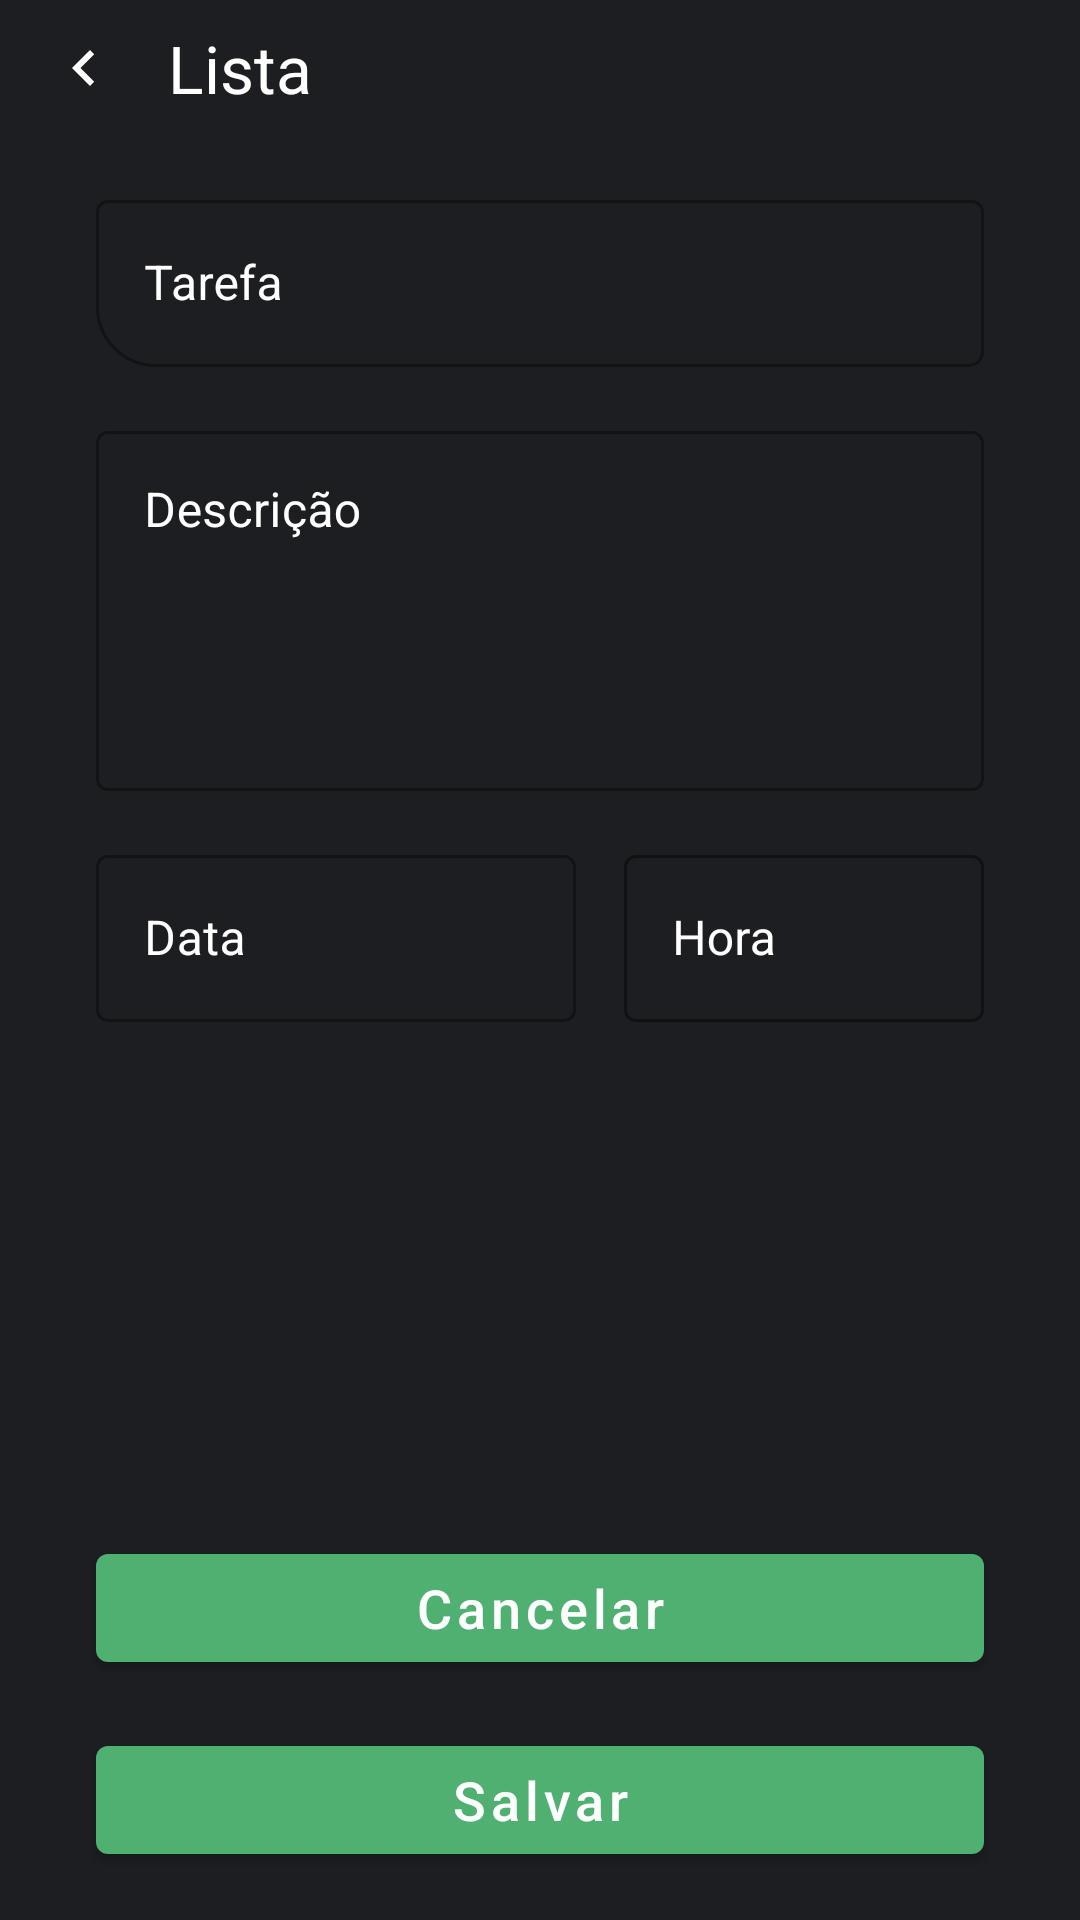

Where icons sit on this 1080w x 1920h app screen, as BBox(x1, y1, x2, y2):
navigate: BBox(72, 50, 94, 86)
